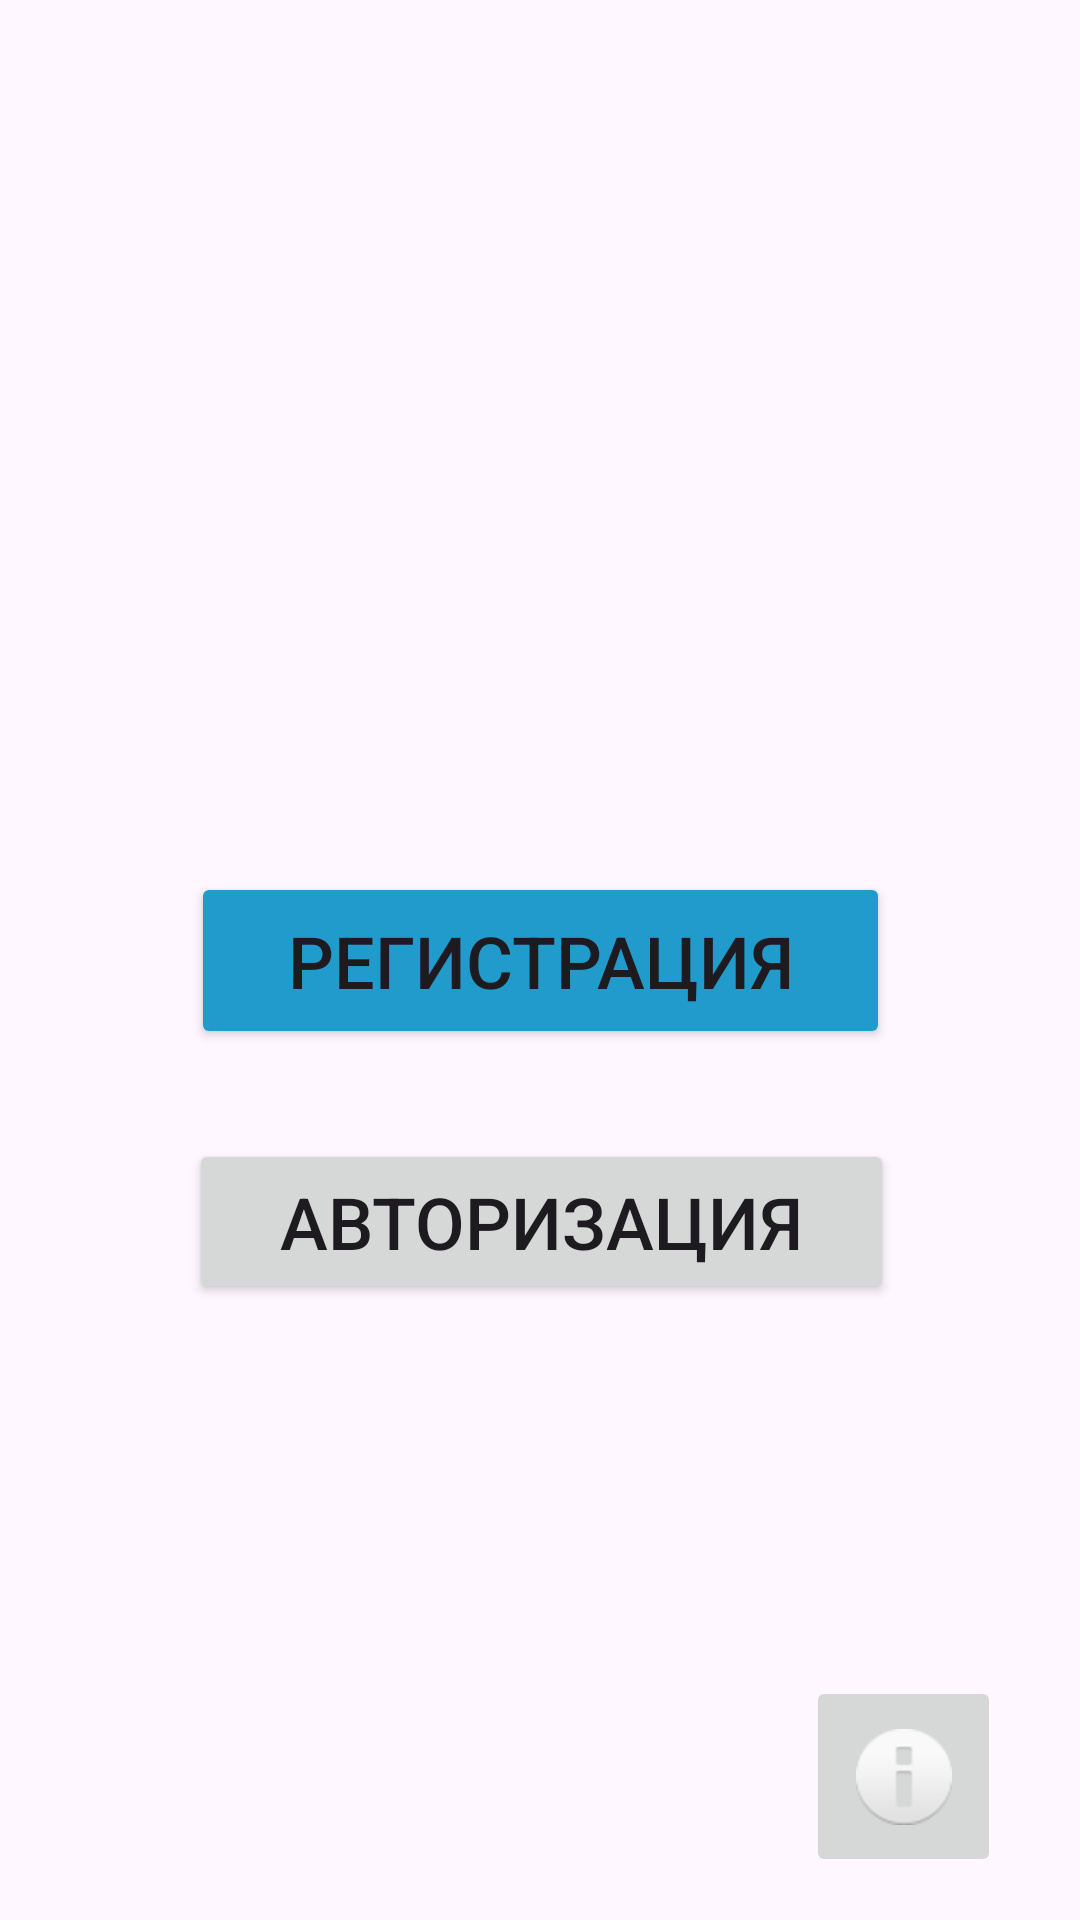

Icon click points for this 1080 x 1920 phone screenshot, format (x=x, y=y):
info: (x=903, y=1776)
